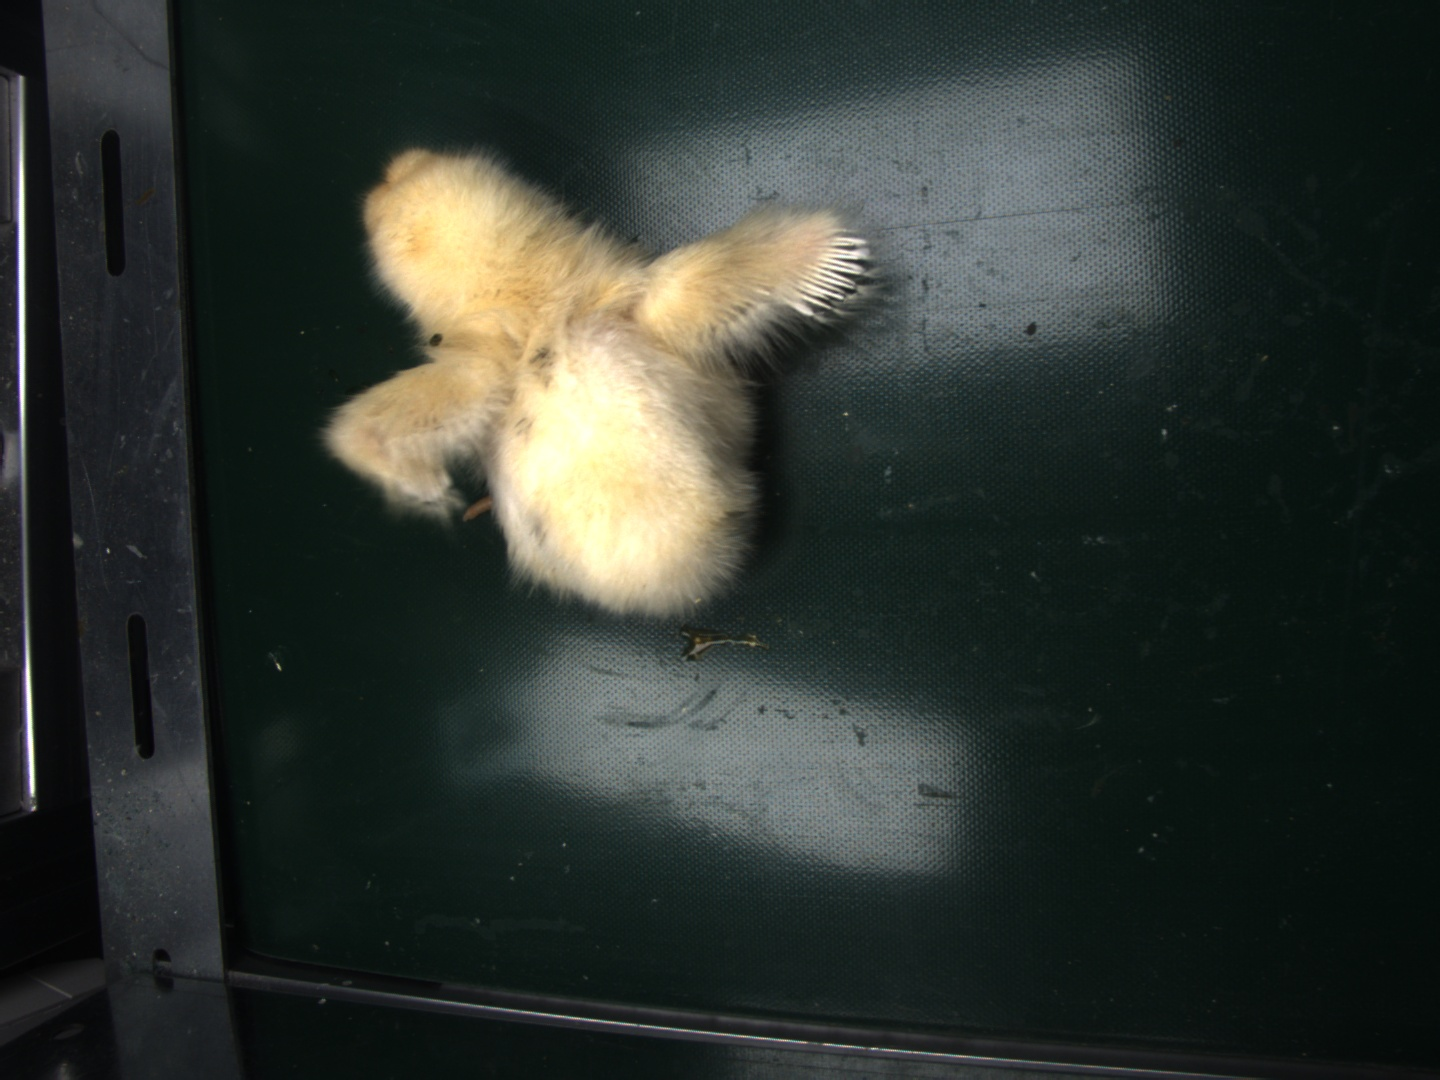male: (793, 231, 869, 317)
